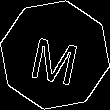M_N: (27, 25, 83, 85)
